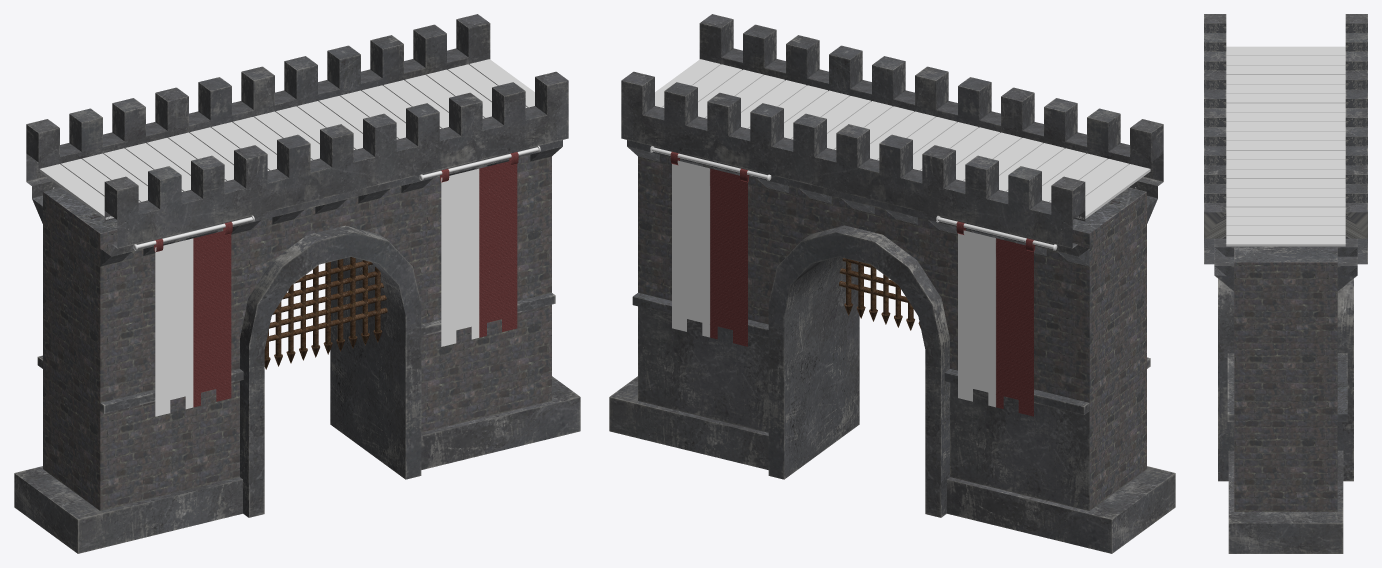
File: wall_gate.fbx
The picture shows the model from 3 angles, left to right: view 1: azimuth 30°, elevation 25°; view 2: azimuth 150°, elevation 25°; view 3: azimuth 270°, elevation 25°; orthographic projection. The views are drawn at different scales.
Visible parts, largest first — view 1: Muralla3.203; view 2: Muralla3.203; view 3: Muralla3.203.
Part boxes in pixels (x1,y1,x2,y2): Muralla3.203: (14,14,580,553); Muralla3.203: (609,14,1175,553); Muralla3.203: (1204,14,1367,553).
Size of the model in its own units: 405 by 283 by 127.
5 materials, 4 textured.
